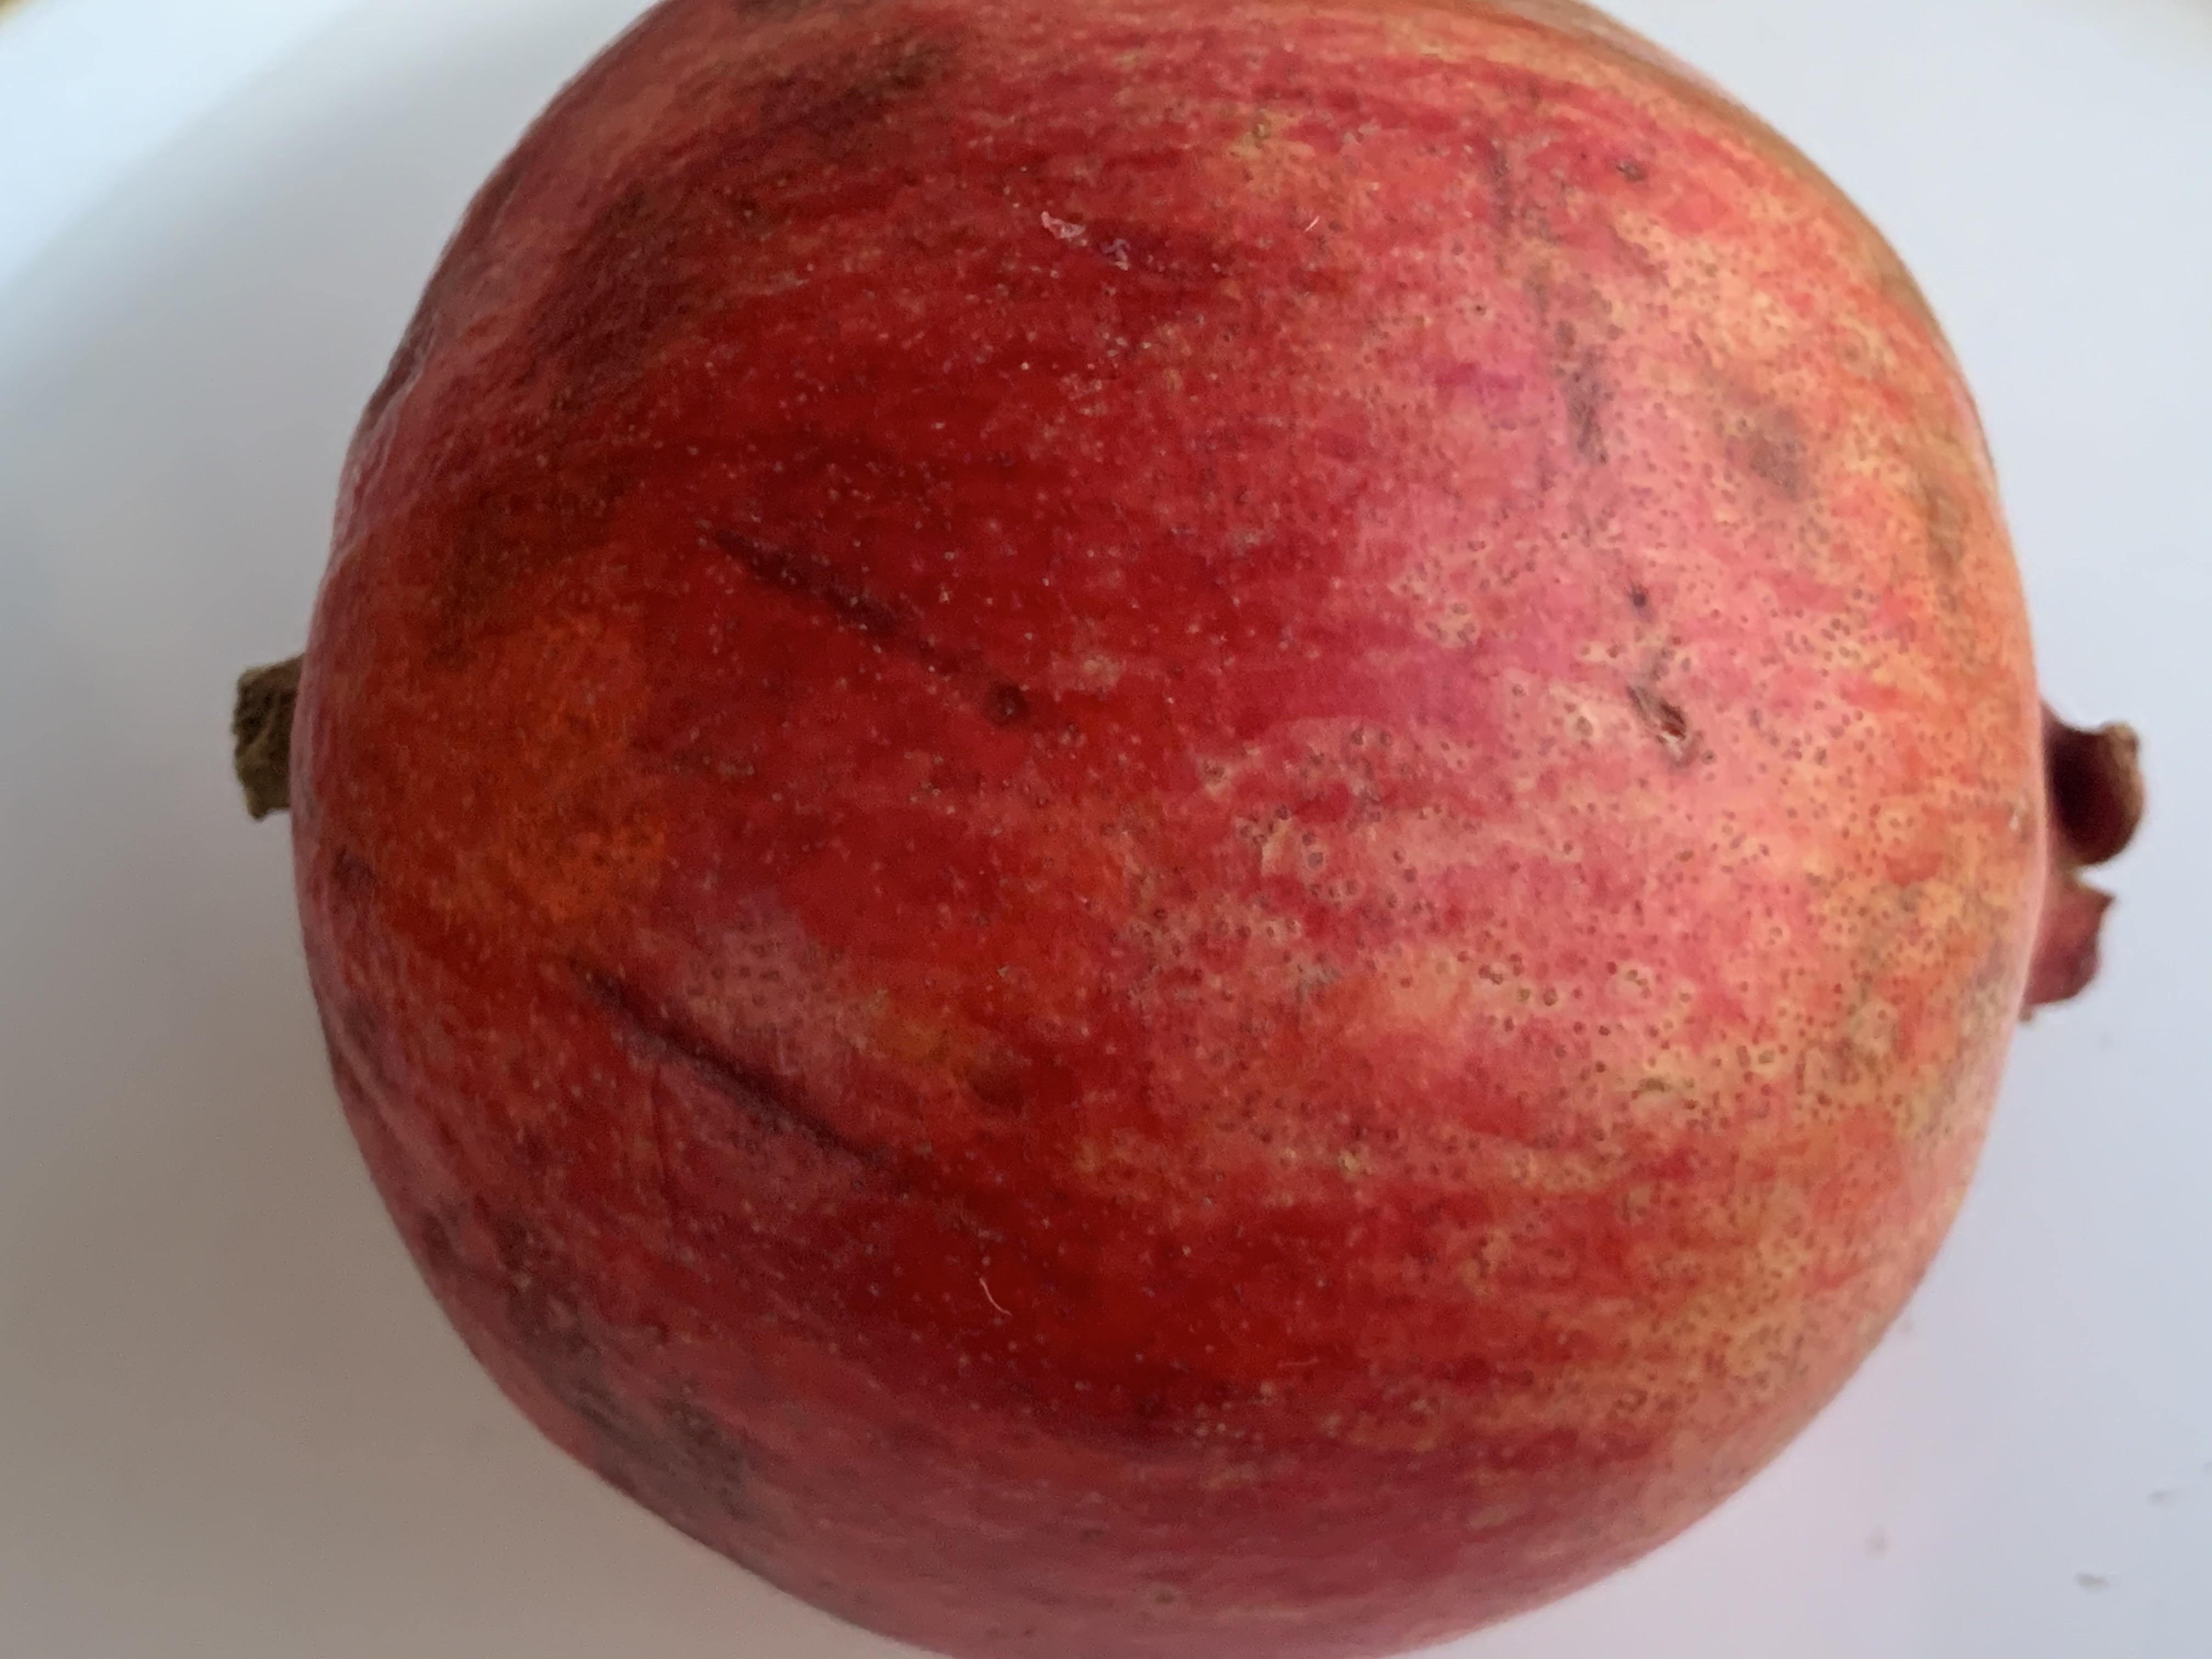Pomegranate: (228, 23, 2153, 1659)
